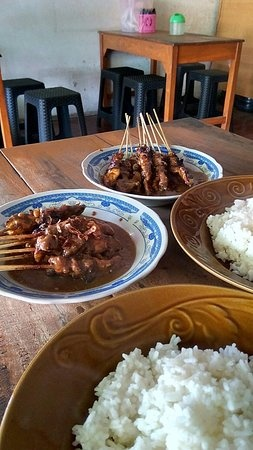sate_madura: (1, 203, 121, 277), (104, 107, 194, 192)
